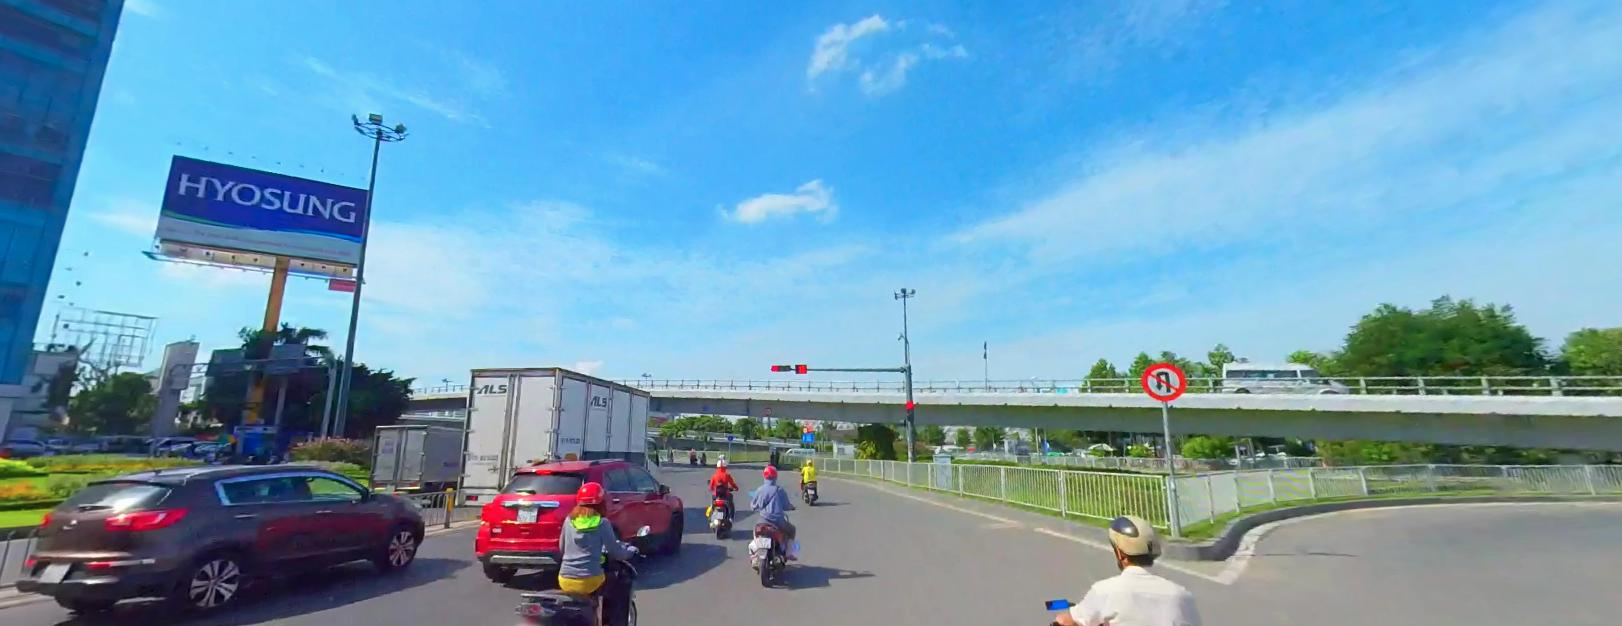Cam con lai: (764, 406, 771, 413)
Cam re: (1140, 361, 1184, 399)
Hieu lenh: (727, 434, 732, 439)
